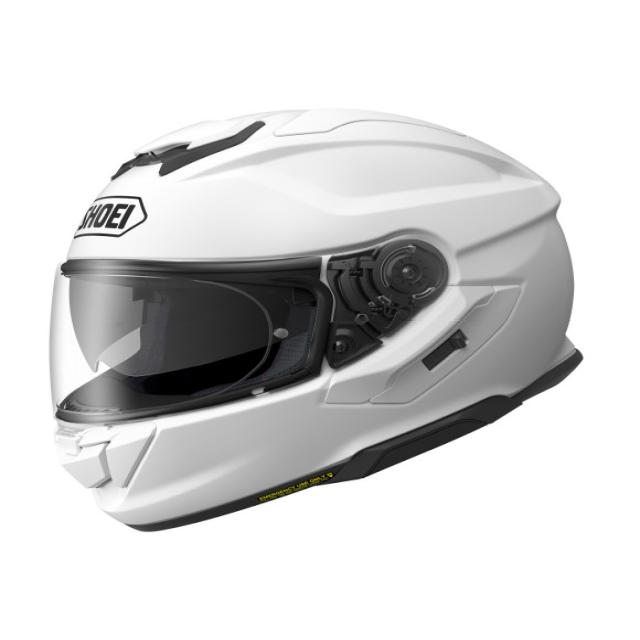Helmet: (44, 104, 584, 532)
